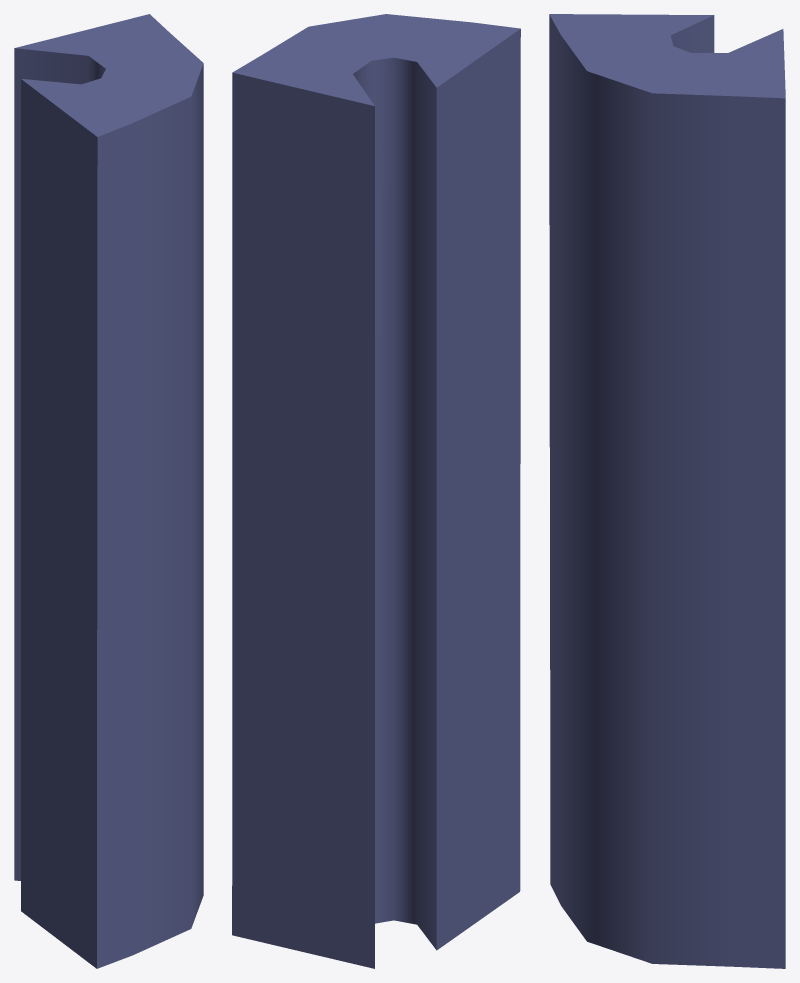
File: curvedWall_1.fbx
3 views of the same model, side by side, from view 1: azimuth 30°, elevation 25°; view 2: azimuth 150°, elevation 25°; view 3: azimuth 270°, elevation 25° (orthographic). The views are drawn at different scales.
Parts seen in each view (by area): view 1: curvedWall_1; view 2: curvedWall_1; view 3: curvedWall_1.
Boxes of the visible parts, bbox=[...] form: curvedWall_1: bbox=[14, 14, 203, 968]; curvedWall_1: bbox=[232, 14, 520, 968]; curvedWall_1: bbox=[549, 14, 785, 968].
Size of the model in its own units: 7.49 by 36 by 8.87.
